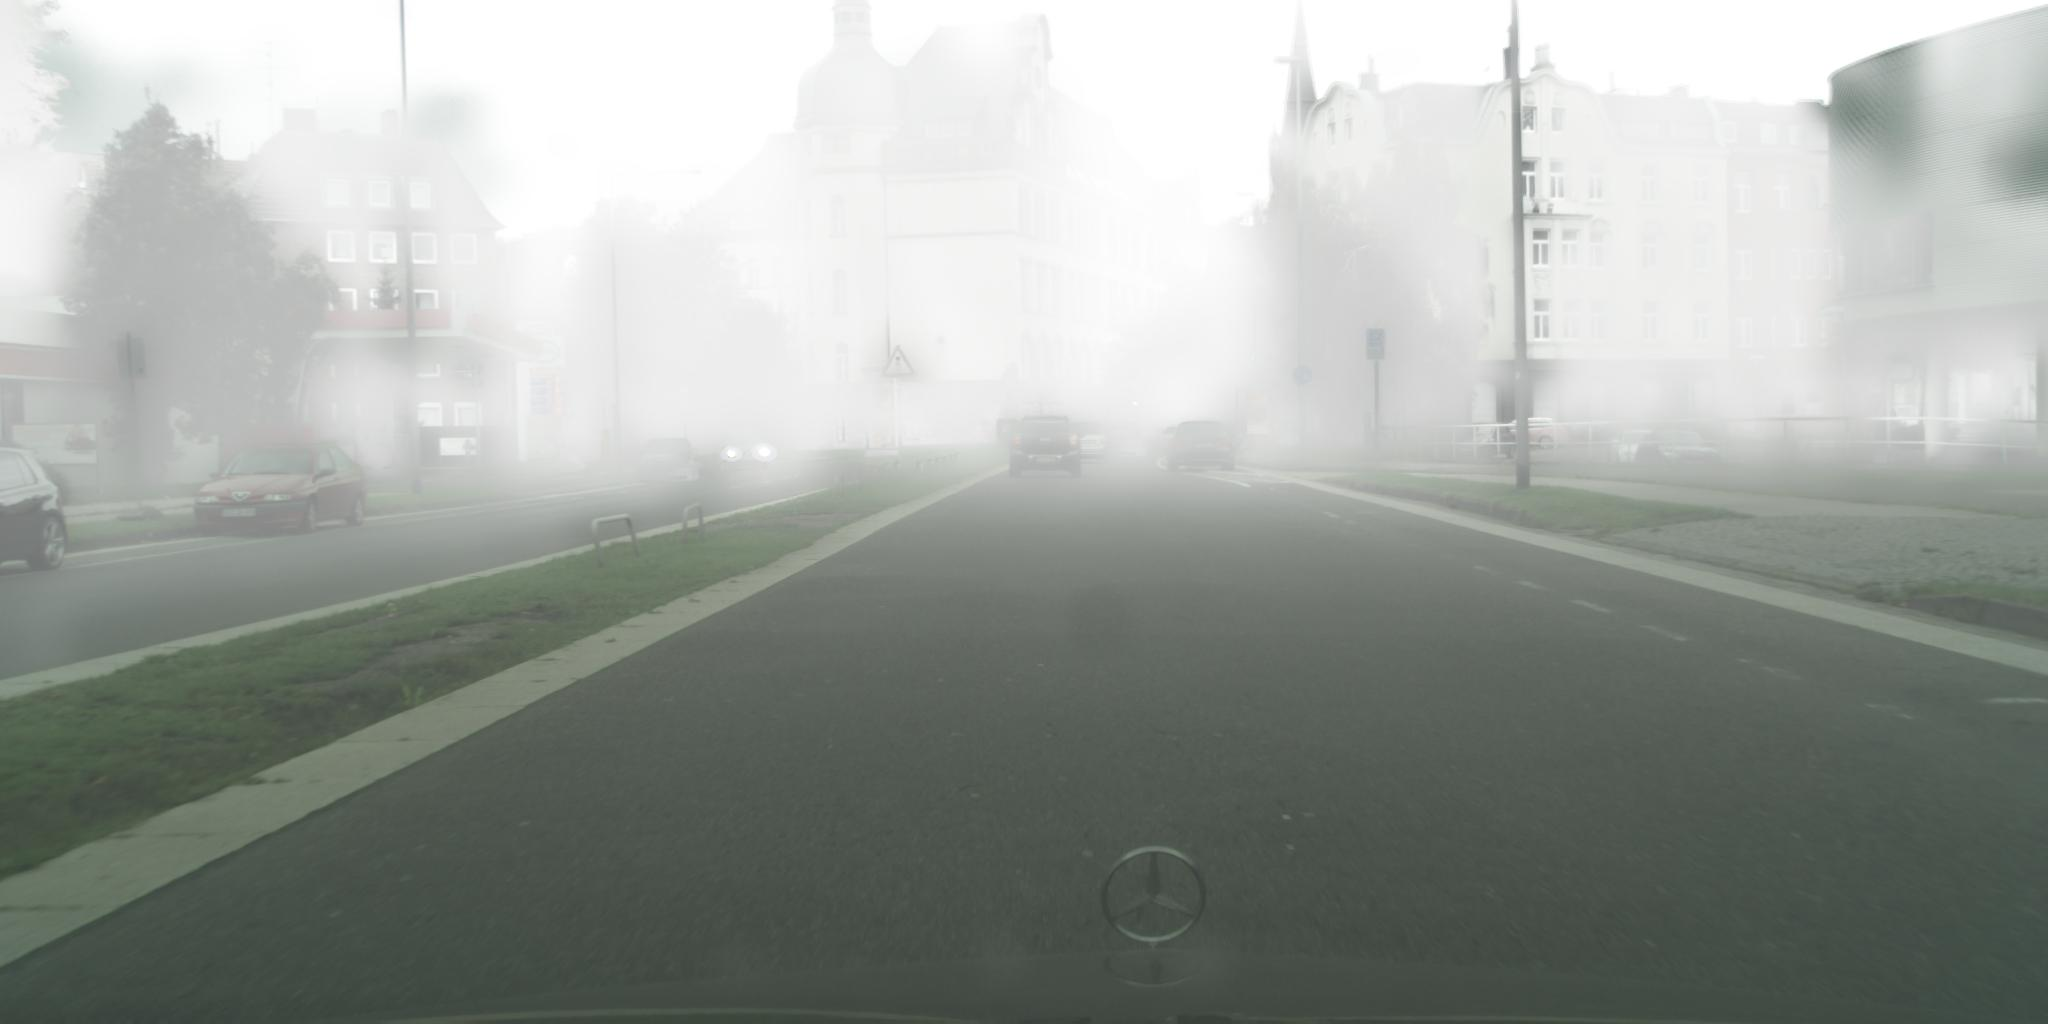car: (193, 445, 368, 537), (1, 448, 69, 569), (1011, 415, 1085, 478), (1168, 421, 1236, 472), (1633, 428, 1721, 466), (637, 439, 701, 485), (1448, 421, 1515, 462), (718, 428, 778, 472), (1499, 418, 1571, 449), (1064, 423, 1112, 464), (1560, 417, 1627, 444), (1878, 406, 1934, 438), (1102, 423, 1148, 456), (1279, 419, 1305, 445), (1160, 426, 1185, 451)
